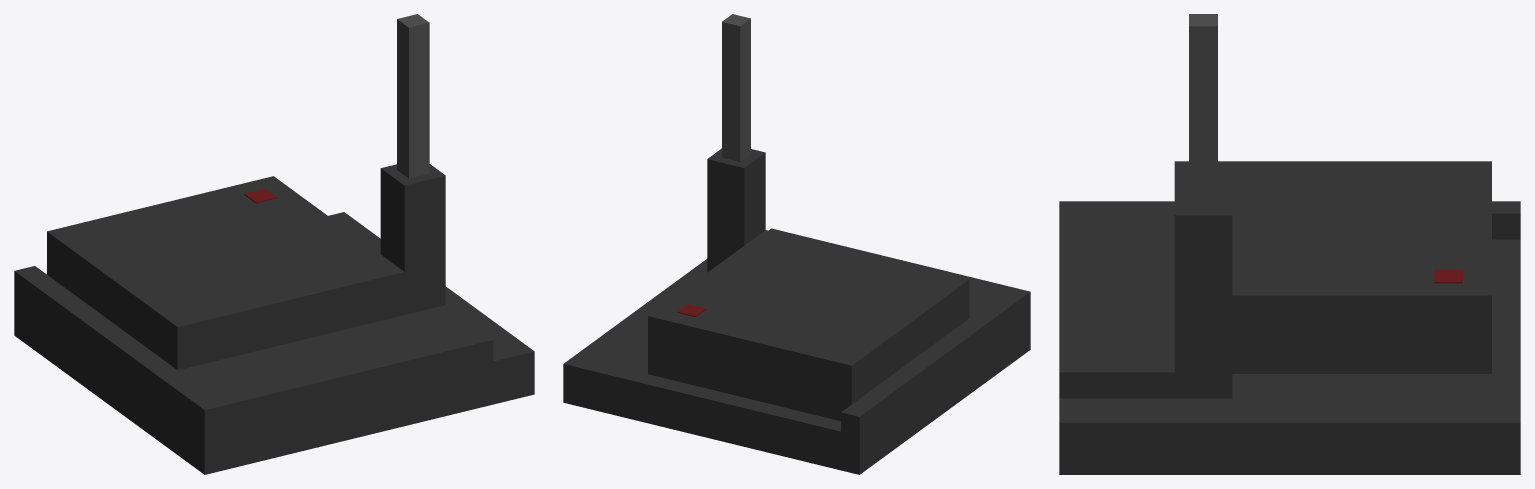
File: microchip.obj
The picture shows the model from 3 angles, left to right: view 1: azimuth 30°, elevation 25°; view 2: azimuth 150°, elevation 25°; view 3: azimuth 270°, elevation 25°; orthographic projection. The views are drawn at different scales.
Parts seen in each view (by area): view 1: unit, base3, base2, base1, antenne_bottom, antenne_top; view 2: unit, base1, base2, antenne_bottom, antenne_top, base3; view 3: unit, base1, base3, antenne_bottom, antenne_top, base2.
Part boxes in pixels (x1,y1,x2,y2): unit: [47, 176, 404, 370]; base3: [178, 305, 493, 426]; base2: [14, 266, 225, 474]; base1: [225, 212, 534, 469]; antenne_bottom: [380, 164, 445, 314]; antenne_top: [397, 14, 429, 178]; unit: [648, 230, 969, 420]; base1: [563, 259, 840, 470]; base2: [841, 287, 1030, 474]; antenne_bottom: [707, 148, 765, 272]; antenne_top: [722, 14, 750, 161]; base3: [769, 228, 1011, 317]; unit: [1174, 161, 1491, 373]; base1: [1059, 239, 1520, 474]; base3: [1059, 213, 1174, 398]; antenne_bottom: [1174, 191, 1232, 398]; antenne_top: [1189, 14, 1217, 209]; base2: [1059, 201, 1520, 239].
Size of the model in its own units: 1 by 1 by 1.
Materials: 1 (1 with a texture image).
